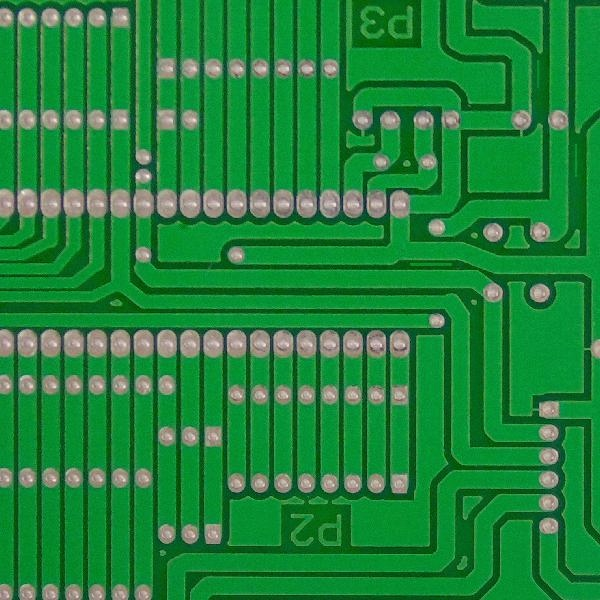spurious_copper: (569, 139, 588, 179), (407, 259, 455, 271), (534, 55, 545, 90)
